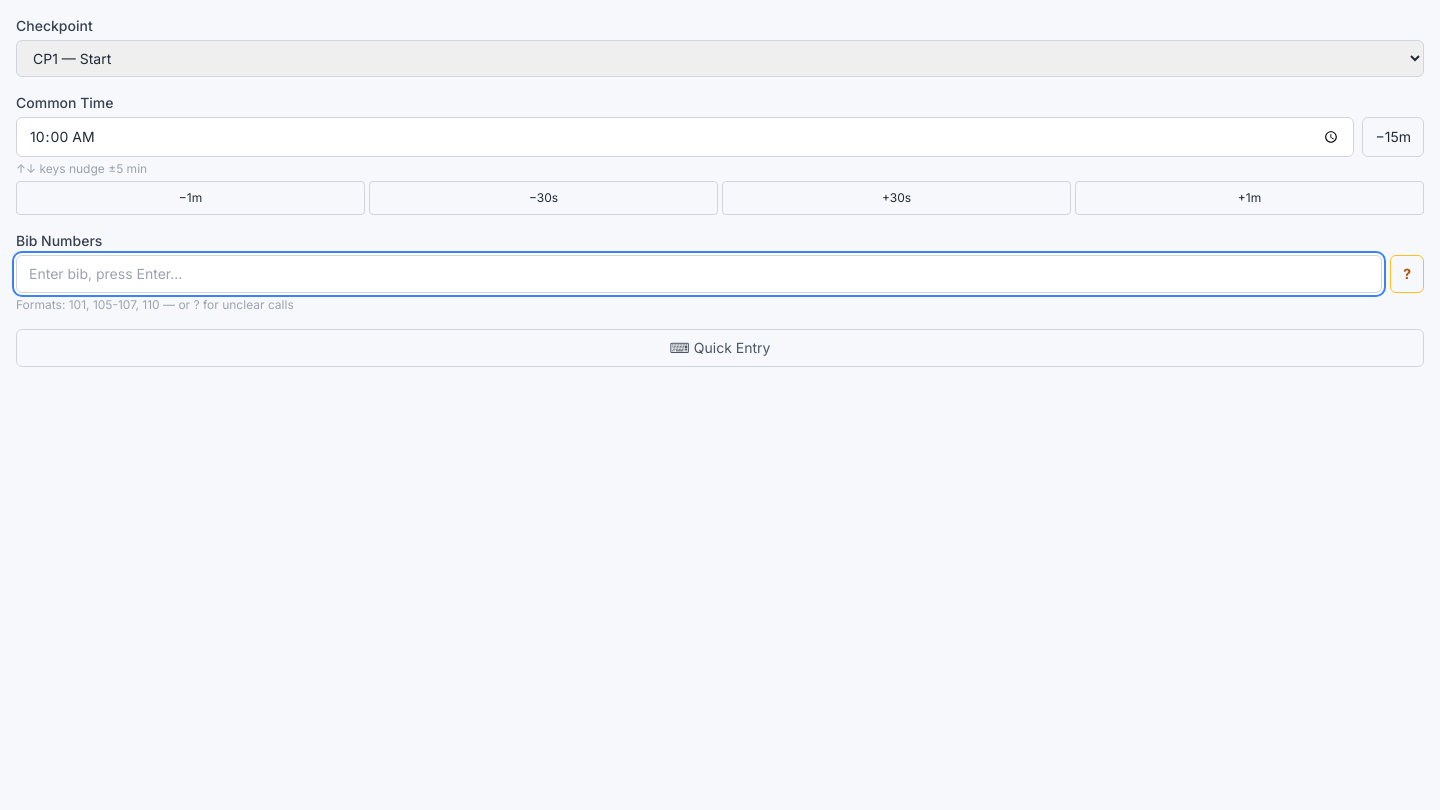
Scenario: InputSection — Quick Entry panel › Numpad › backspace removes last digit
What coordinates should you click on to do the following:
click the button "⌨ Quick Entry"
I would click on:
 (720, 348)
Its box is [16,329,1424,367].
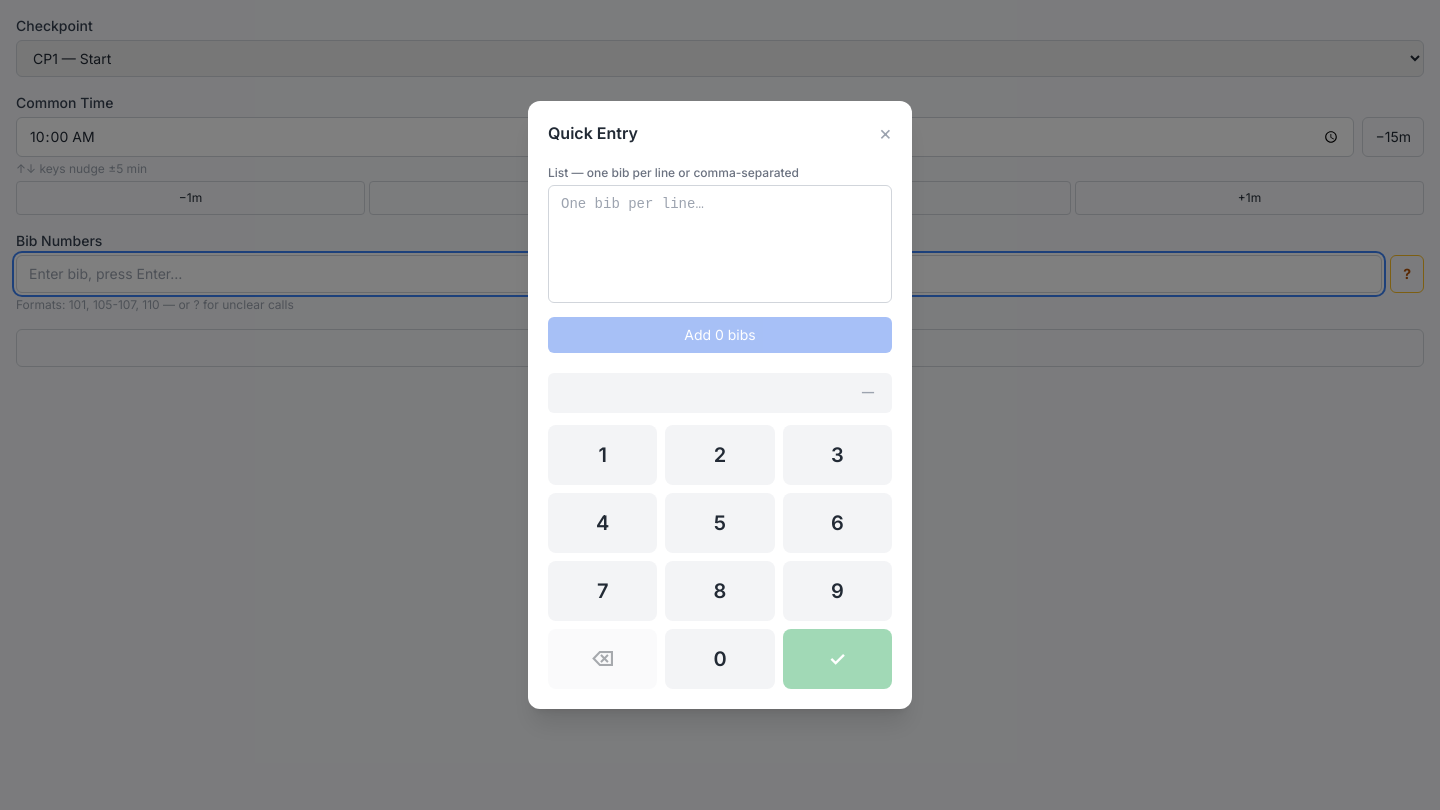
What coordinates should you click on to do the following:
click the button named "Digit 1"
I would click on:
 (603, 455)
Its box is [548,425,657,485].
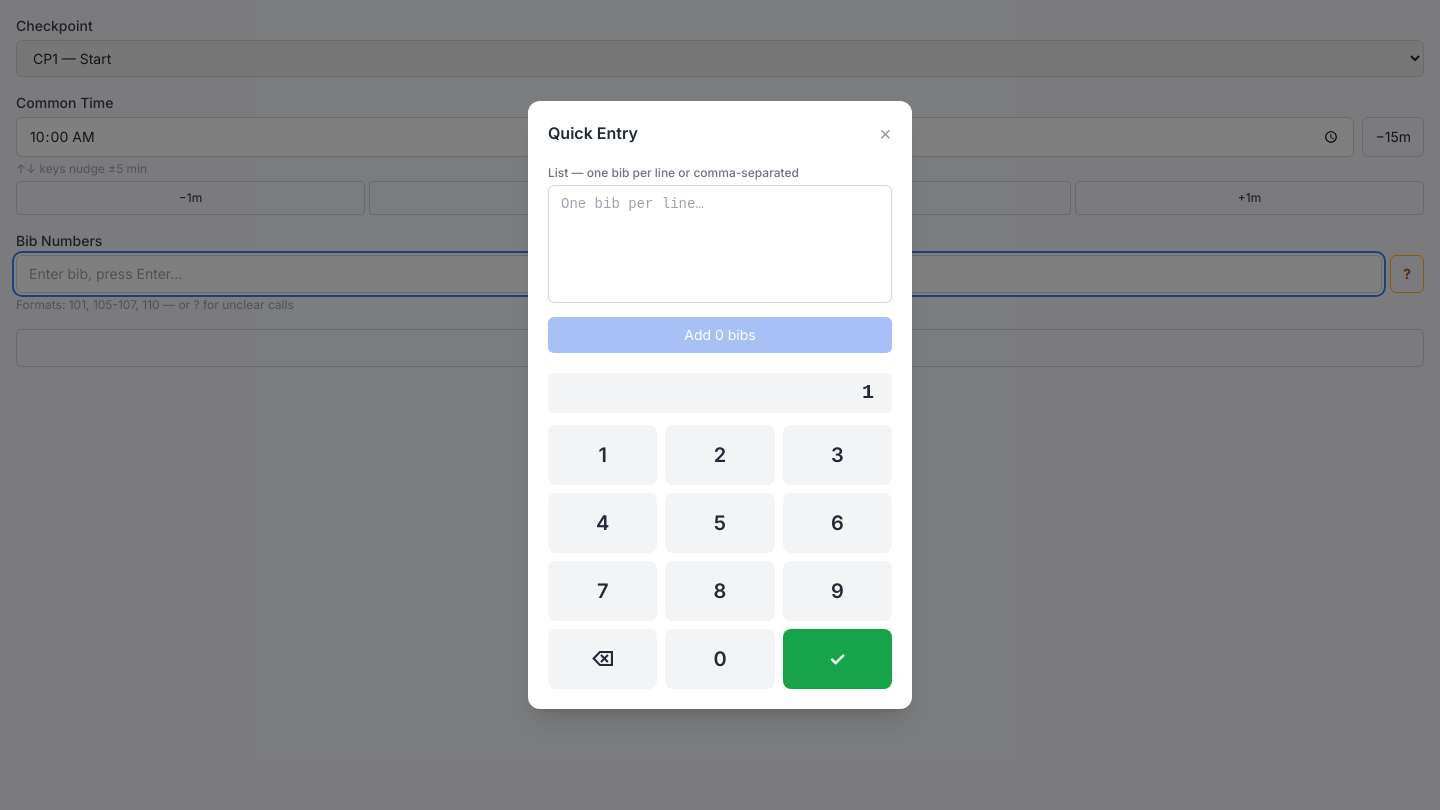
What coordinates should you click on to do the following:
click the button named "Digit 2"
I would click on:
 (720, 455)
Its box is [665,425,775,485].
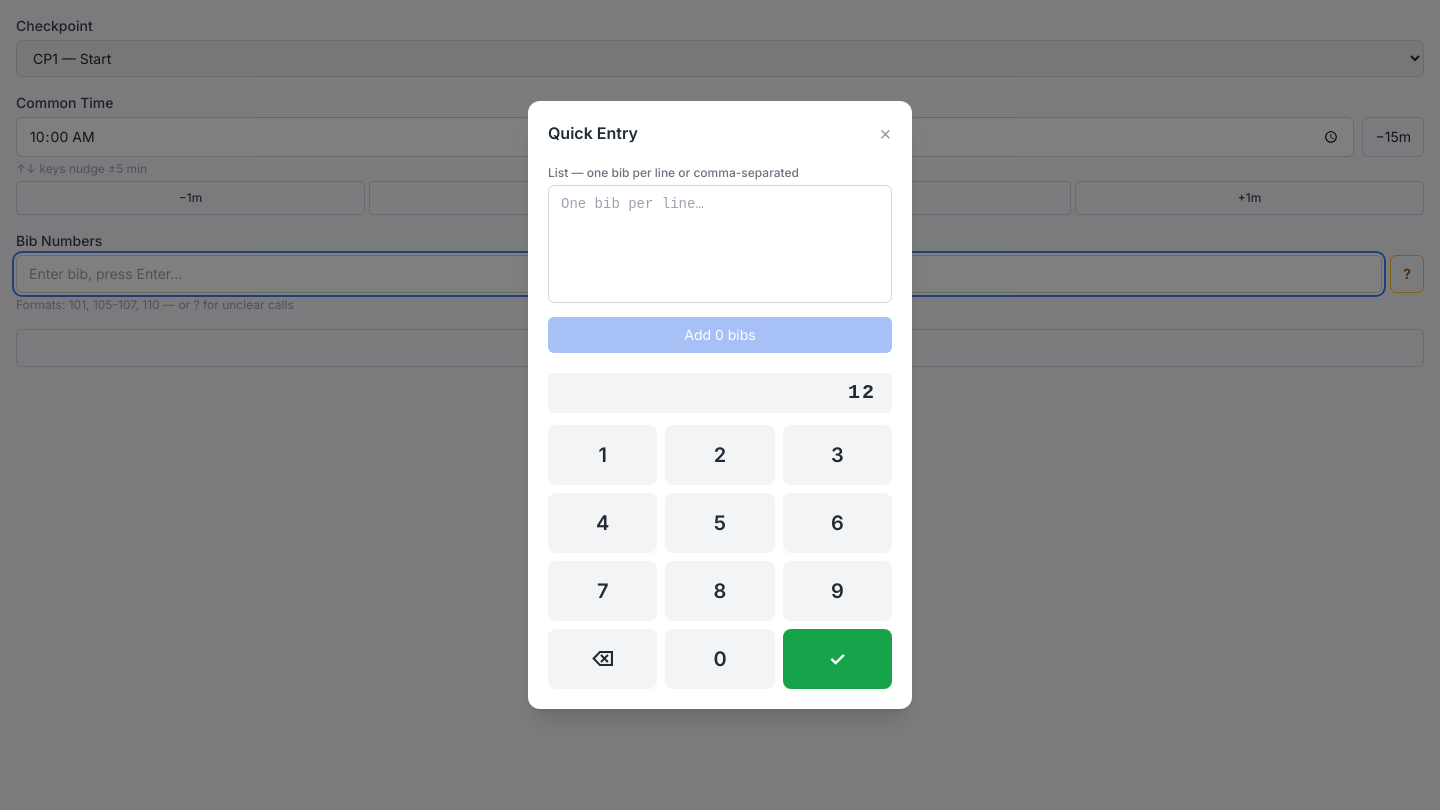
What coordinates should you click on to do the following:
click the button named "backspace"
I would click on:
 (603, 659)
Its box is [548,629,657,689].
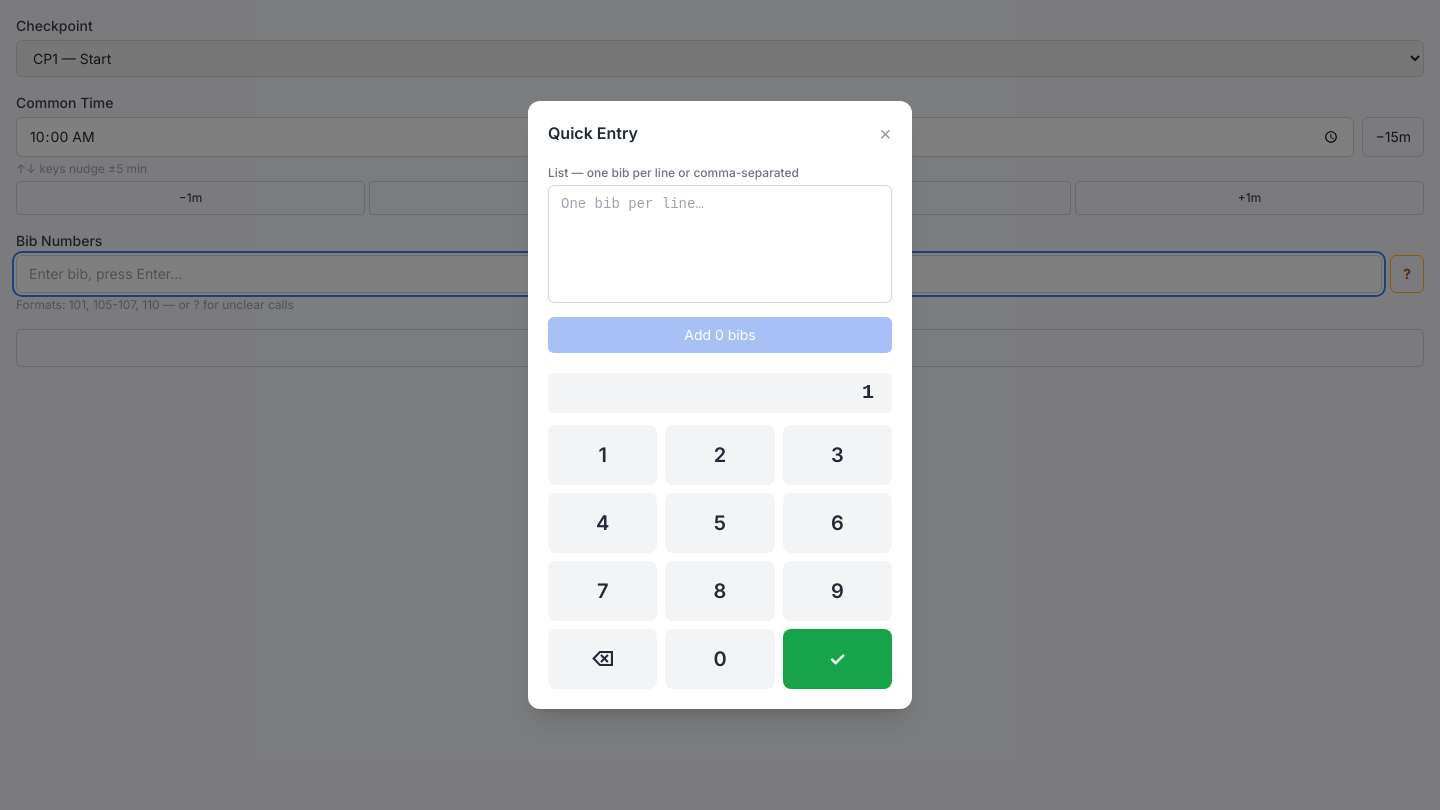
Check: the text with test id "numpad-display" reads "1", box [862,381,876,404]
